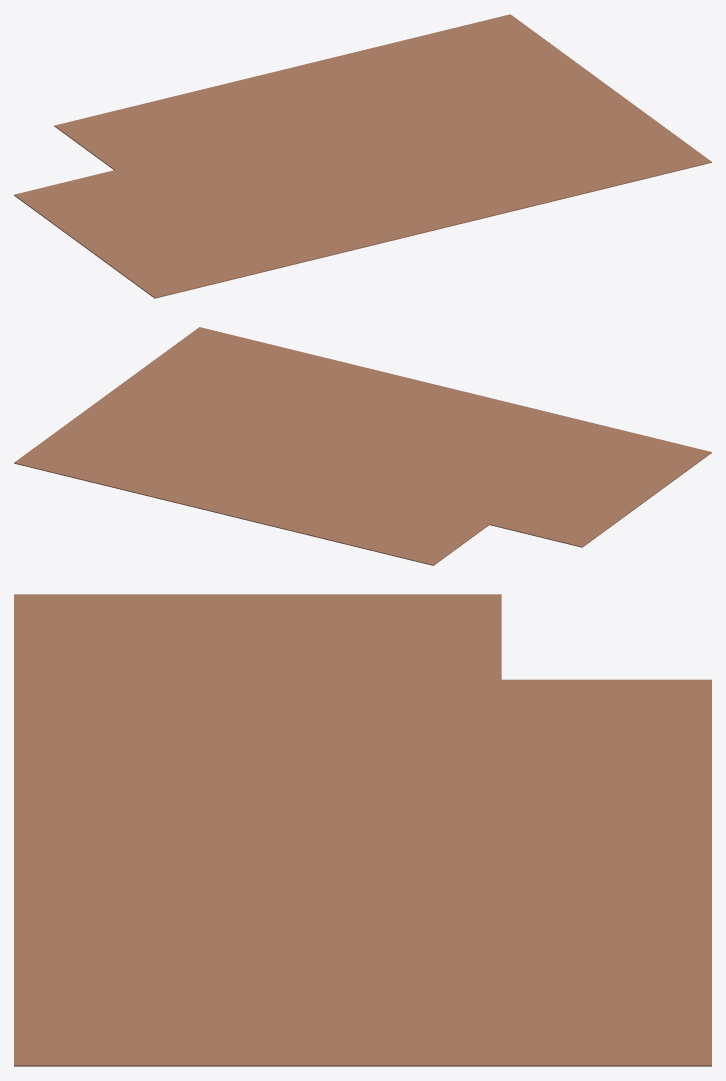
The model's file is floor.dae.
3 views of the same model, one above another, from view 1: azimuth 30°, elevation 25°; view 2: azimuth 150°, elevation 25°; view 3: azimuth 270°, elevation 25° (orthographic). The views are drawn at different scales.
Visible parts, largest first — view 1: floor; view 2: floor; view 3: floor.
Part boxes in pixels (x1,y1,x2,y2): floor: (14, 14, 711, 298); floor: (14, 327, 711, 565); floor: (14, 594, 711, 1066).
Bounding box in the file's own units: 303 × 190 × 0.489.
